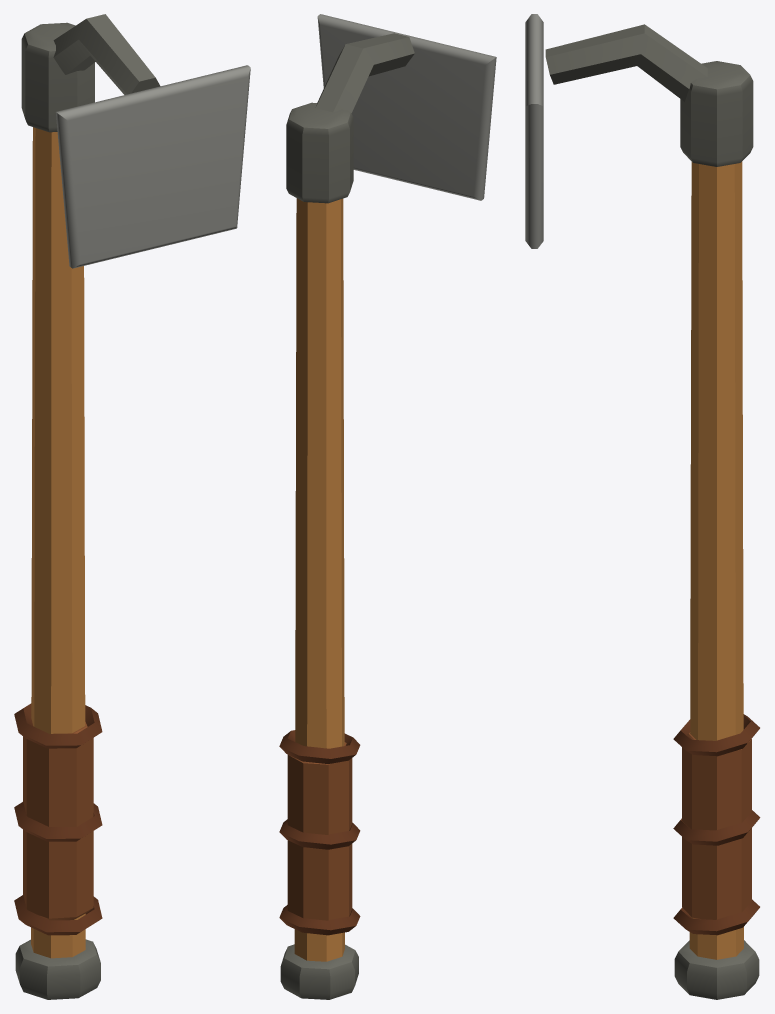
The model's file is StoneHoe.fbx.
3 views of the same model, side by side, from view 1: azimuth 30°, elevation 25°; view 2: azimuth 150°, elevation 25°; view 3: azimuth 270°, elevation 25° (orthographic). The views are drawn at different scales.
Parts seen in each view (by area): view 1: StoneHoe; view 2: StoneHoe; view 3: StoneHoe.
Part boxes in pixels (box(x1,y1,x2,y2)): StoneHoe: box(14, 14, 250, 999); StoneHoe: box(279, 14, 496, 999); StoneHoe: box(525, 14, 760, 999).
Bounding box in the file's own units: 0.7 × 3.48 × 0.7736.
Materials: 1 (1 with a texture image).
